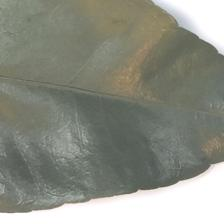healthy: (4, 6, 196, 167)
